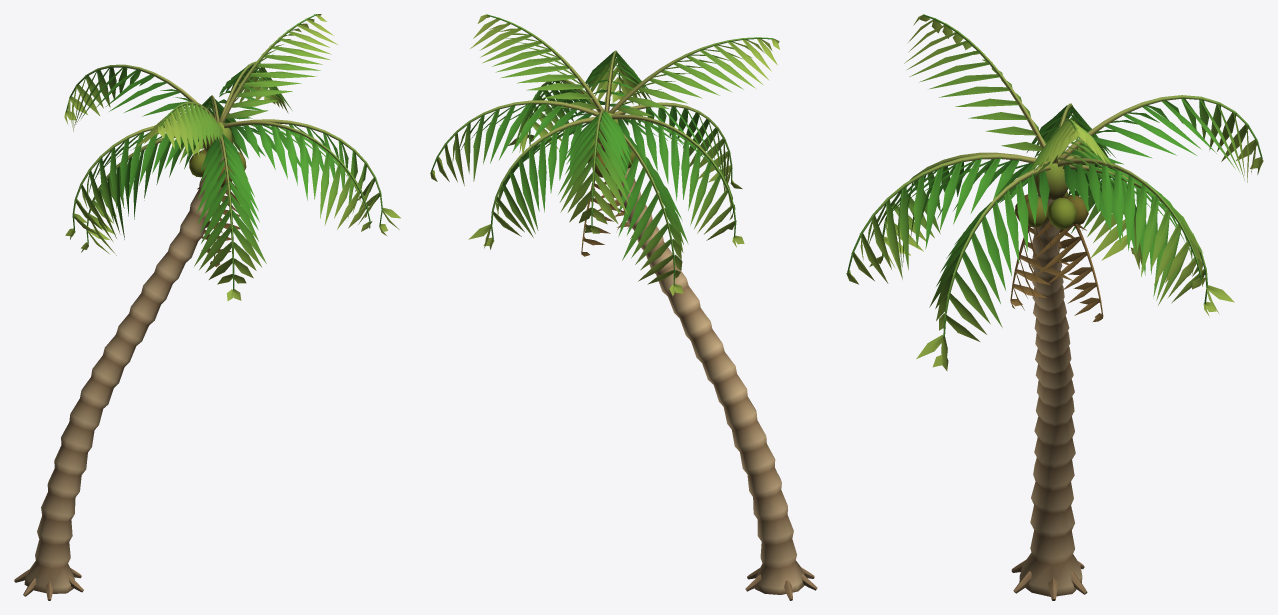
Rendered from palm_lean.glb.
The picture shows the model from 3 angles, left to right: view 1: azimuth 30°, elevation 25°; view 2: azimuth 150°, elevation 25°; view 3: azimuth 270°, elevation 25°; orthographic projection. The views are drawn at different scales.
Parts seen in each view (by area): view 1: palm_lean; view 2: palm_lean; view 3: palm_lean.
Boxes of the visible parts, x1,y1,x2,y2 form: palm_lean: (14,14,400,600); palm_lean: (430,14,817,600); palm_lean: (846,14,1263,600).
Size of the model in its own units: 6.19 by 8.67 by 5.27.
